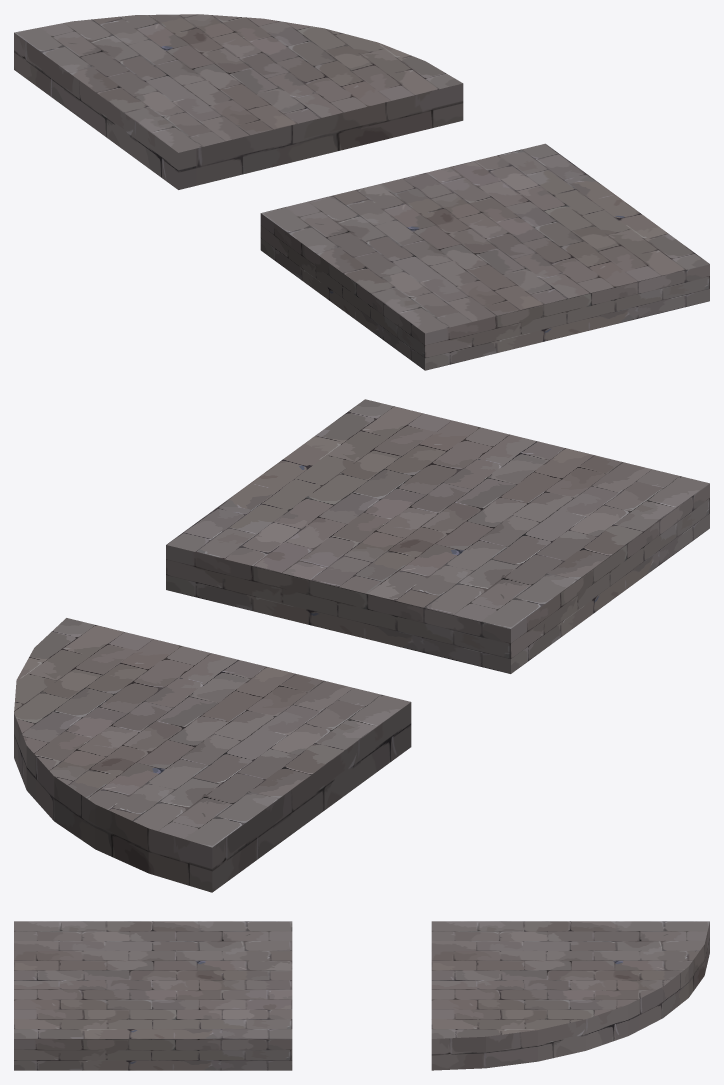
Rendered from Tiles_ground_basic.glb.
The picture shows the model from 3 angles, top to bottom: view 1: azimuth 30°, elevation 25°; view 2: azimuth 150°, elevation 25°; view 3: azimuth 270°, elevation 25°; orthographic projection. The views are drawn at different scales.
Visible parts, largest first — view 1: Cube.001, Cylinder; view 2: Cube.001, Cylinder; view 3: Cube.001, Cylinder.
Part boxes in pixels (x1,y1,x2,y2): Cube.001: (260,143,709,370); Cylinder: (14,14,463,189); Cube.001: (166,399,709,673); Cylinder: (14,618,411,892); Cube.001: (14,921,292,1070); Cylinder: (431,921,709,1070).
Size of the model in its own units: 4 by 0.5 by 10.
2 materials, 2 textured.
